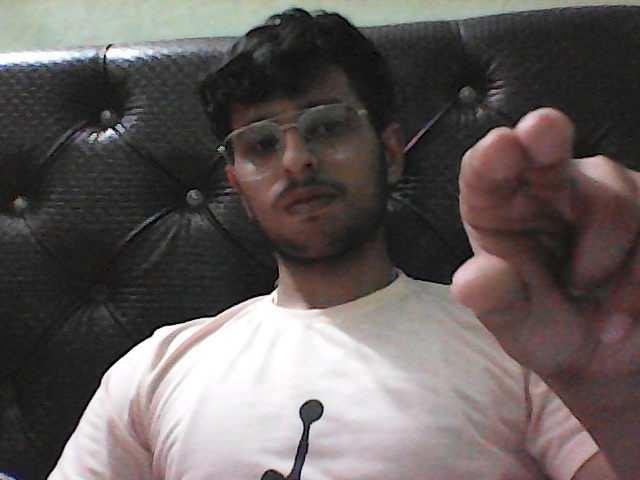no: (427, 90, 640, 412)
